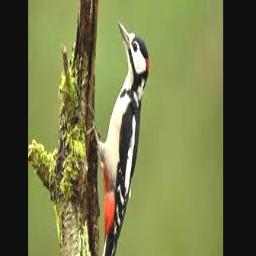Woodpecker: (85, 19, 149, 256)
